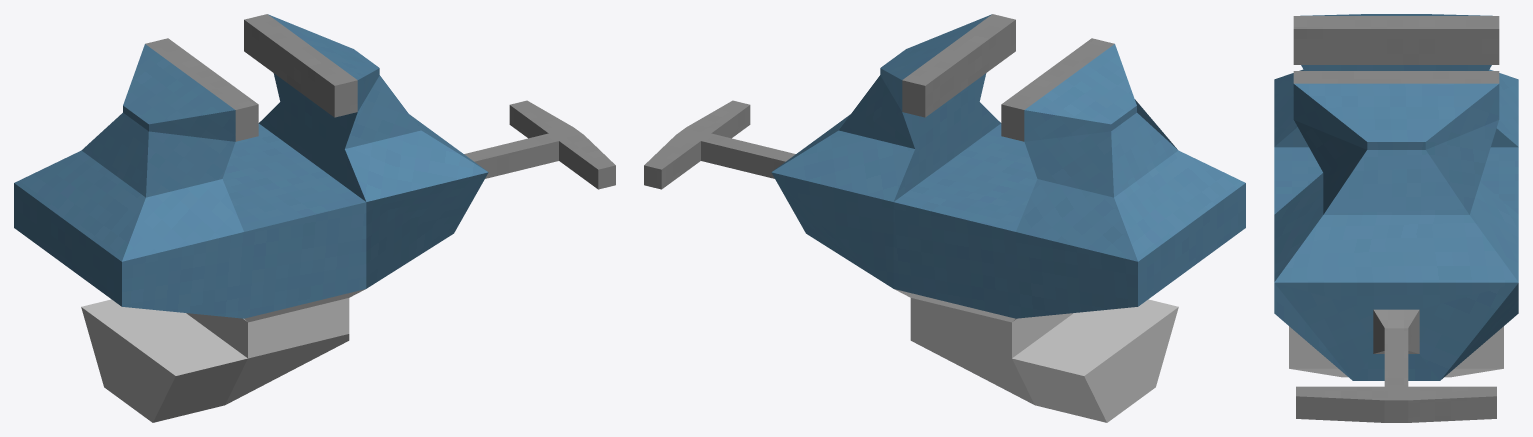
File: vice.fbx
The picture shows the model from 3 angles, left to right: view 1: azimuth 30°, elevation 25°; view 2: azimuth 150°, elevation 25°; view 3: azimuth 270°, elevation 25°; orthographic projection. The views are drawn at different scales.
Visible parts, largest first — view 1: Cube, Cube.001; view 2: Cube, Cube.001; view 3: Cube, Cube.001.
Boxes of the visible parts, <box> form: Cube: <box>14,14,615,318</box>; Cube.001: <box>81,289,365,422</box>; Cube: <box>644,14,1245,318</box>; Cube.001: <box>894,289,1178,422</box>; Cube: <box>1274,14,1518,422</box>; Cube.001: <box>1289,326,1503,377</box>.
Size of the model in its own units: 145 by 84.9 by 52.95.
